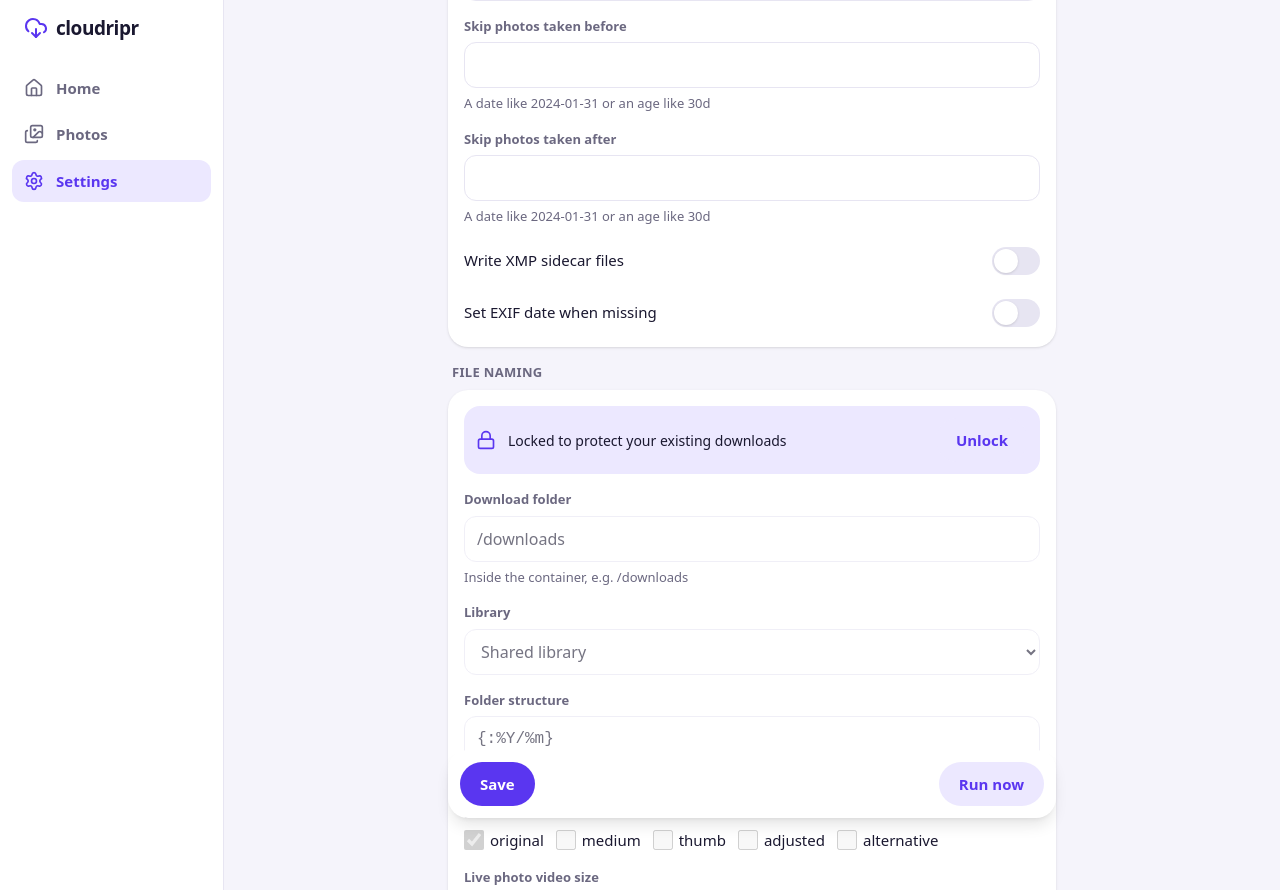
unlock needs the exact name
(page scrolled)
Click the button "Unlock" at [982, 440], box [936, 418, 1028, 462]
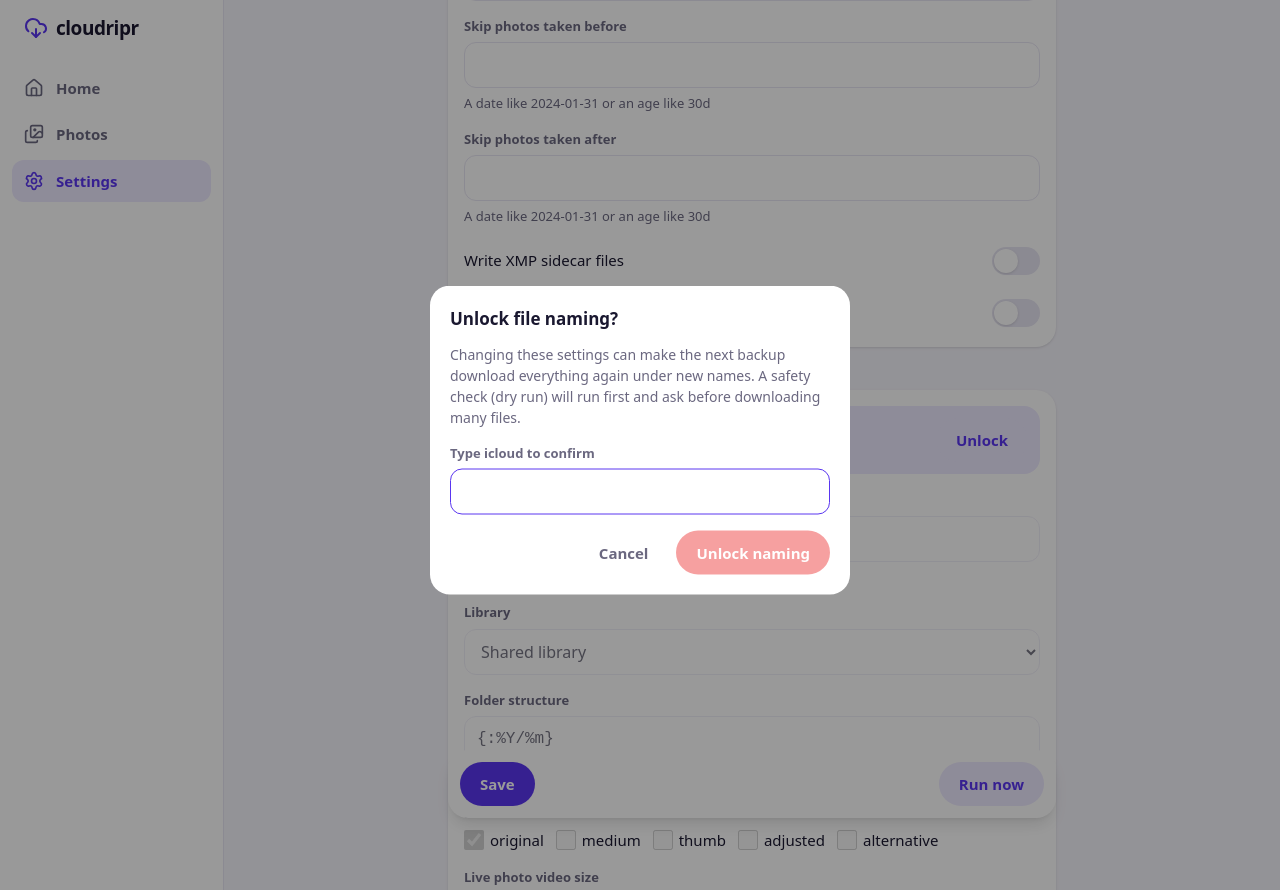
Type "iclou" into the field labelled "Type icloud to confirm" at [640, 492], box [450, 468, 830, 514]
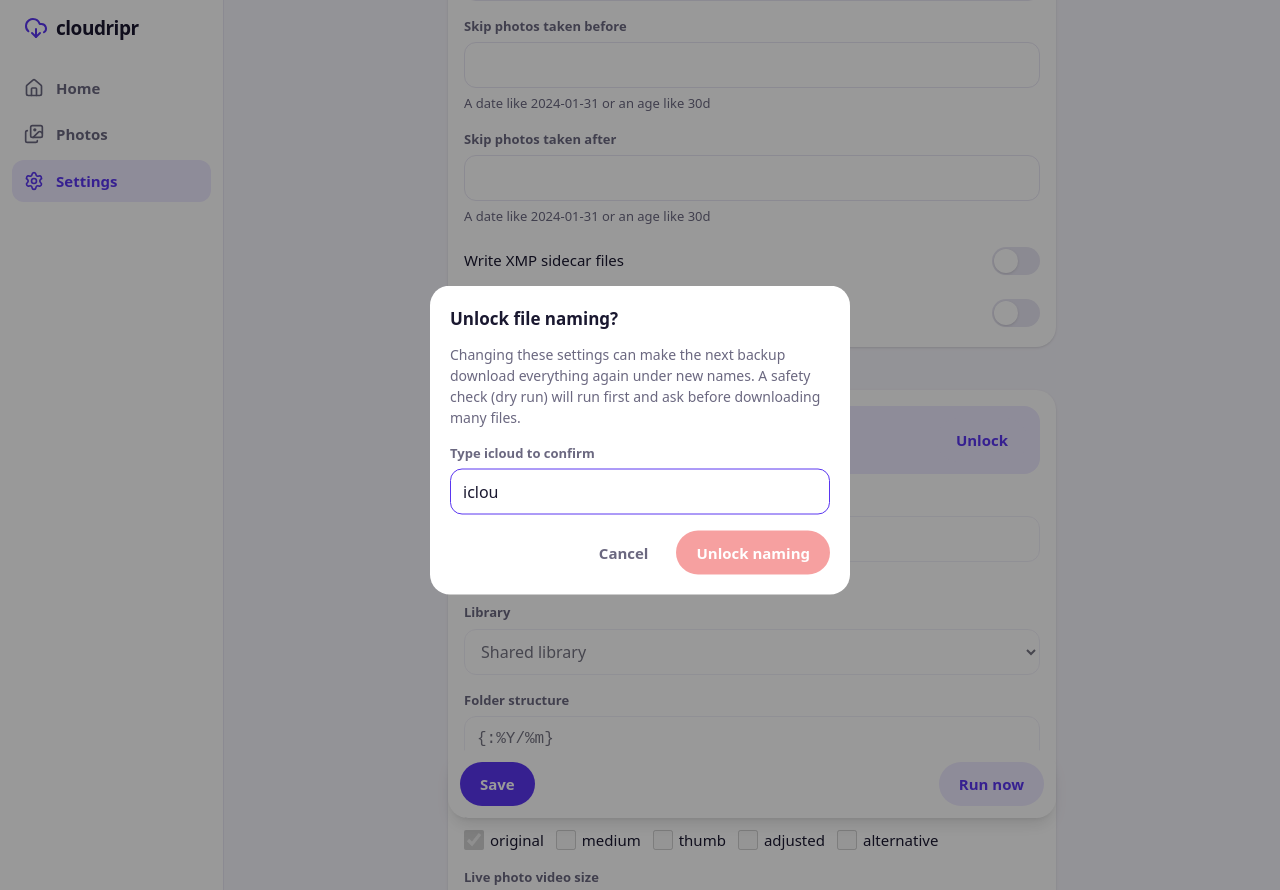
Check: the button "Unlock naming" is disabled, box [676, 530, 830, 574]
Type "d" into the field labelled "Type icloud to confirm" at [640, 492], box [450, 468, 830, 514]
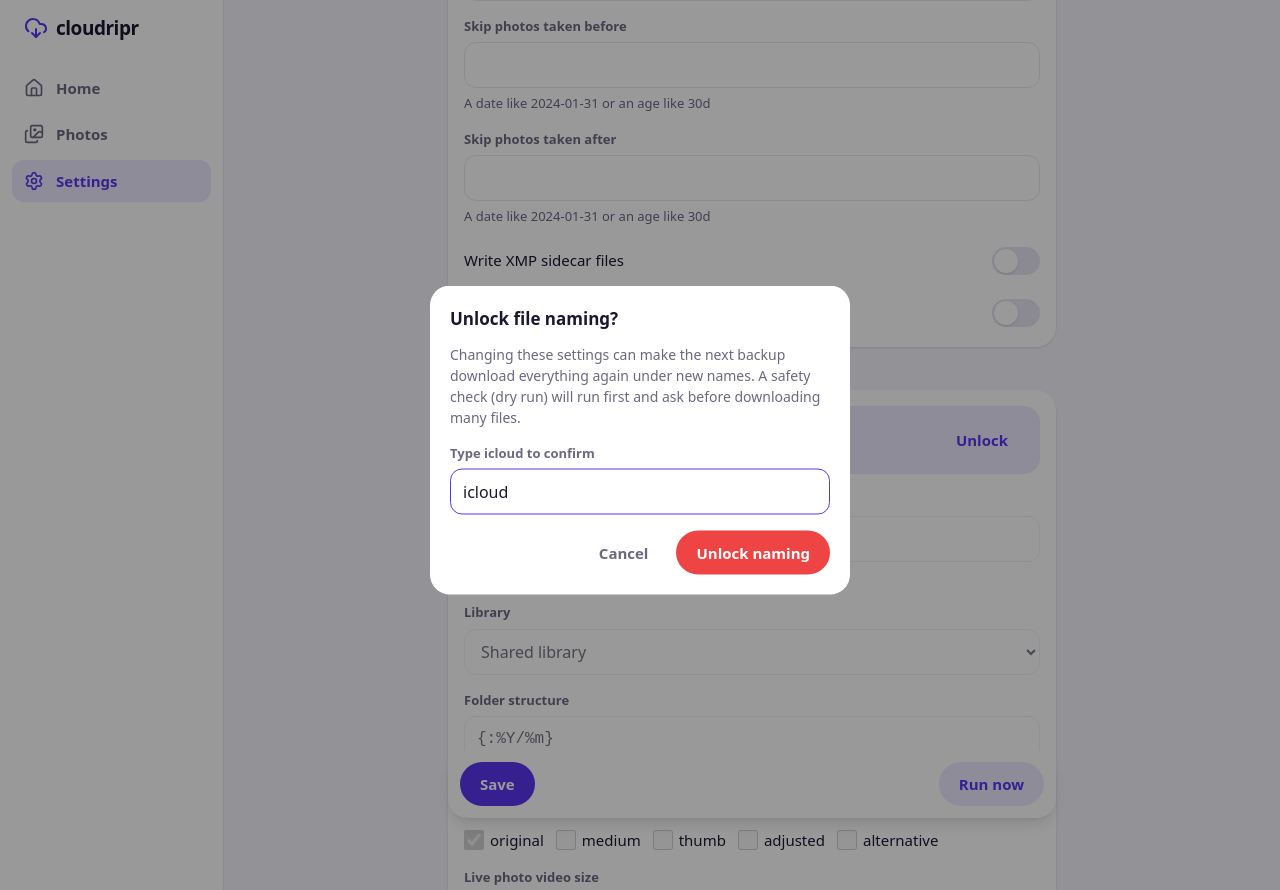
Click the button "Unlock naming" at [753, 552], box [676, 530, 830, 574]
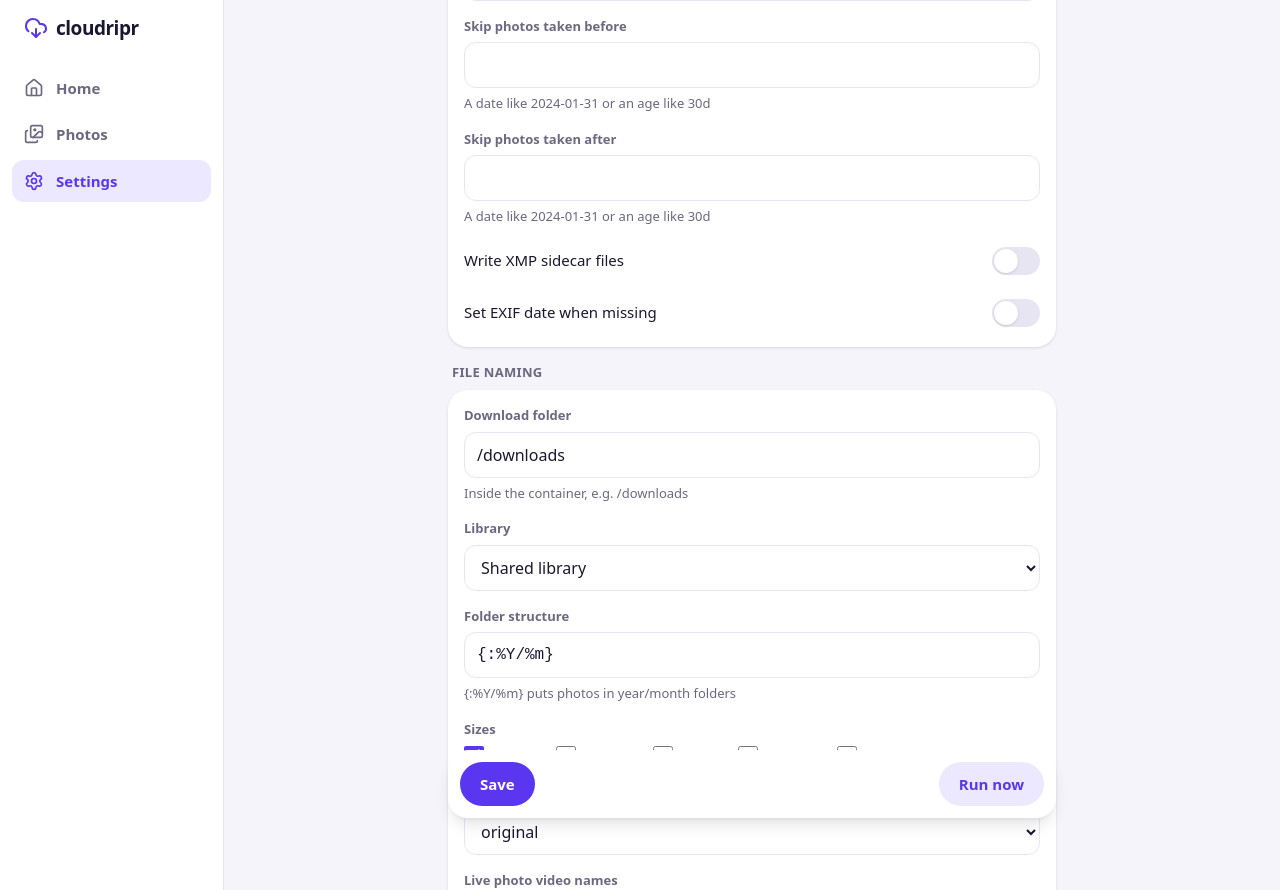
Check: the field labelled "Folder structure" is enabled, box [464, 632, 1040, 678]
